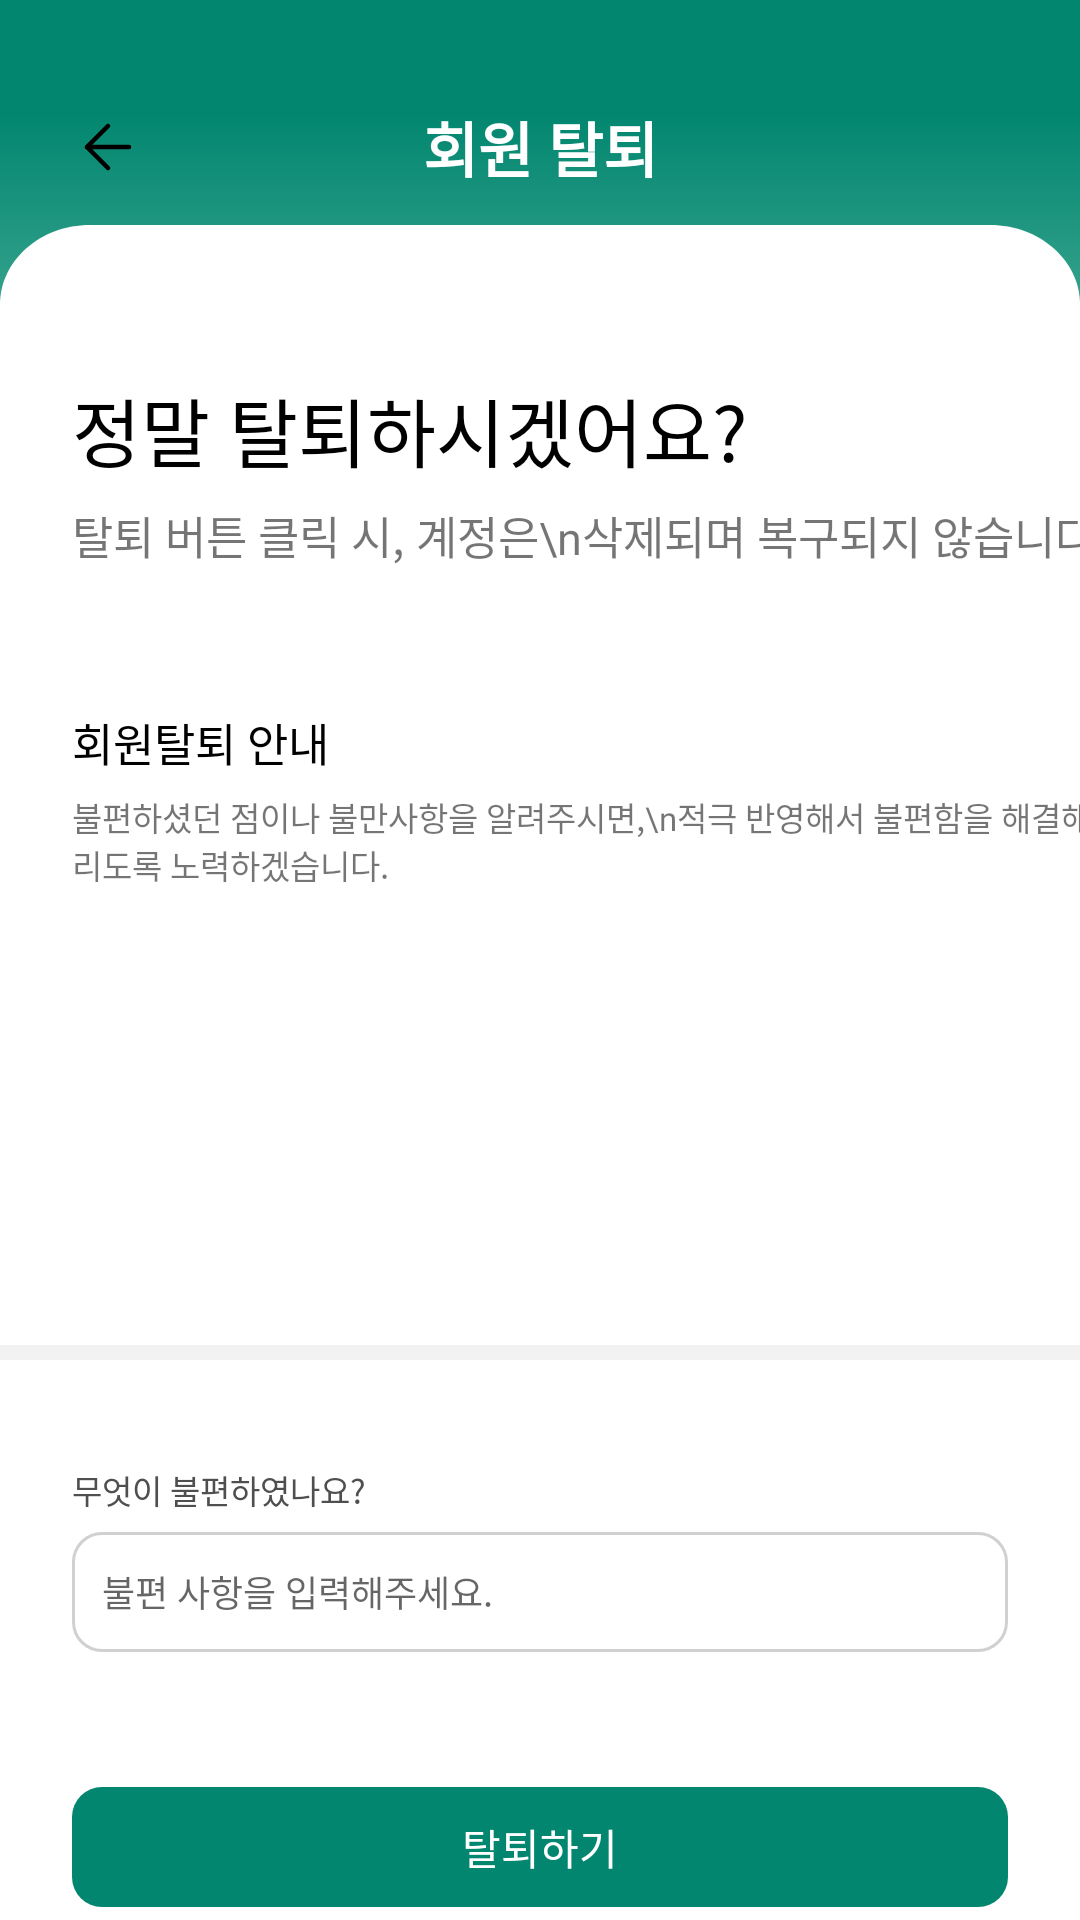

Named icons in this screenshot (1080w x 1920h) and their centers, point (x, y):
arrow left: point (108, 147)
